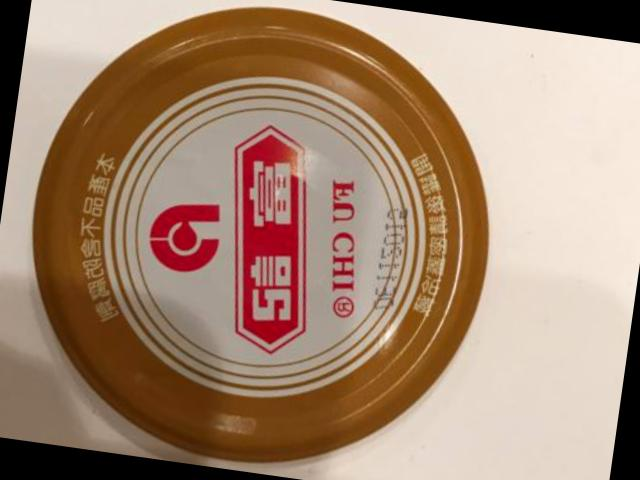metal: (35, 6, 489, 459)
